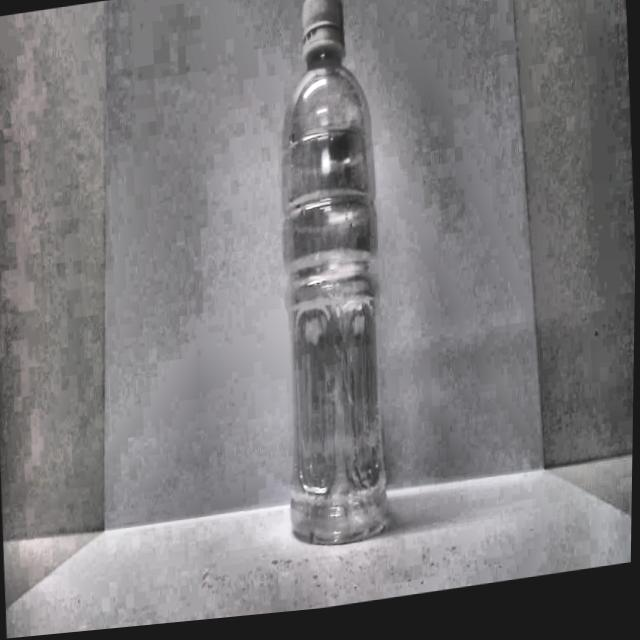Bottles: (248, 0, 417, 569)
